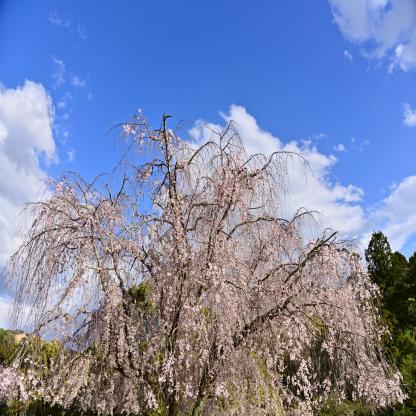ShidareZakura: (0, 107, 409, 416)
